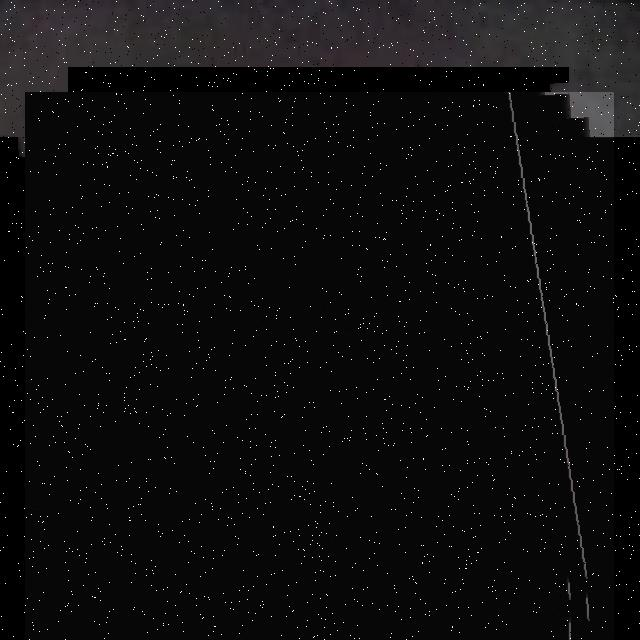dua puluh ribu rupiah: (25, 92, 614, 640)
